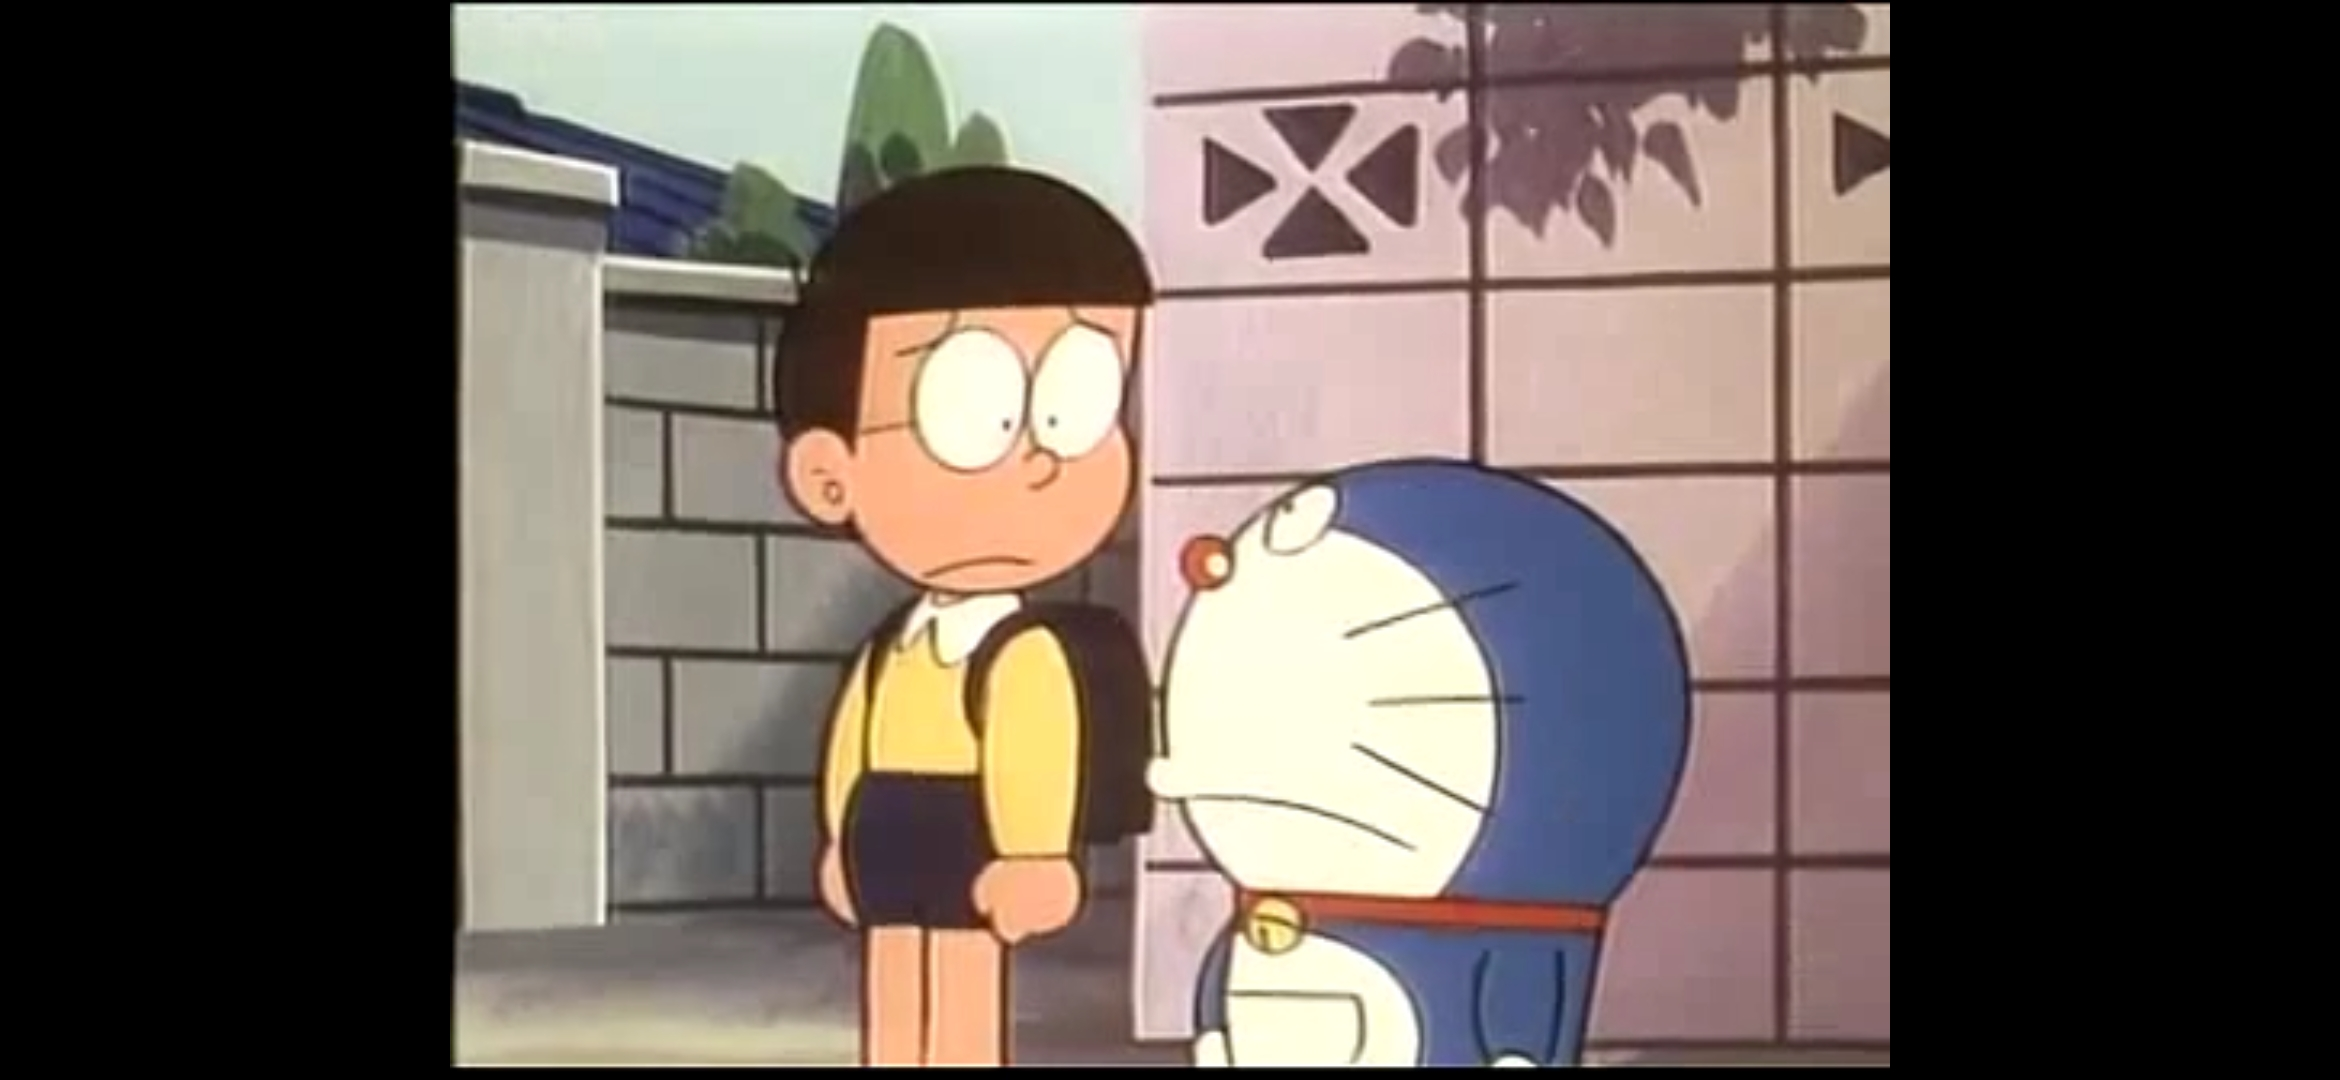Doraemon: (1143, 455, 1692, 952)
Nobi: (769, 164, 1155, 594)
